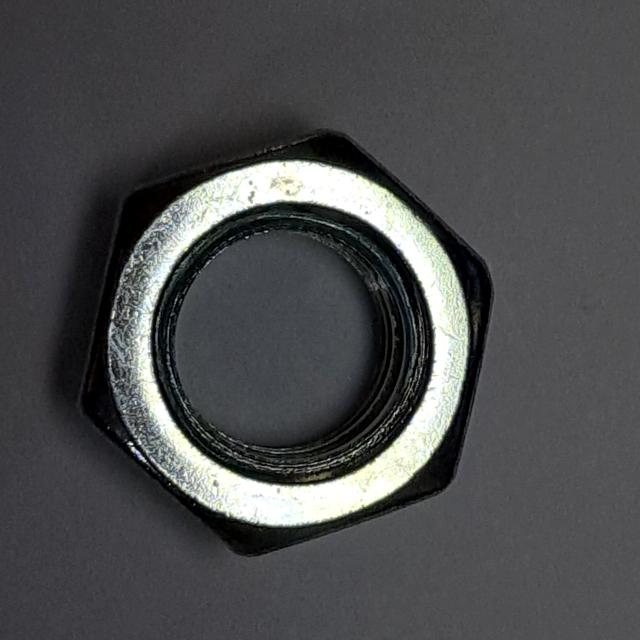Excellent: (66, 113, 508, 571)
